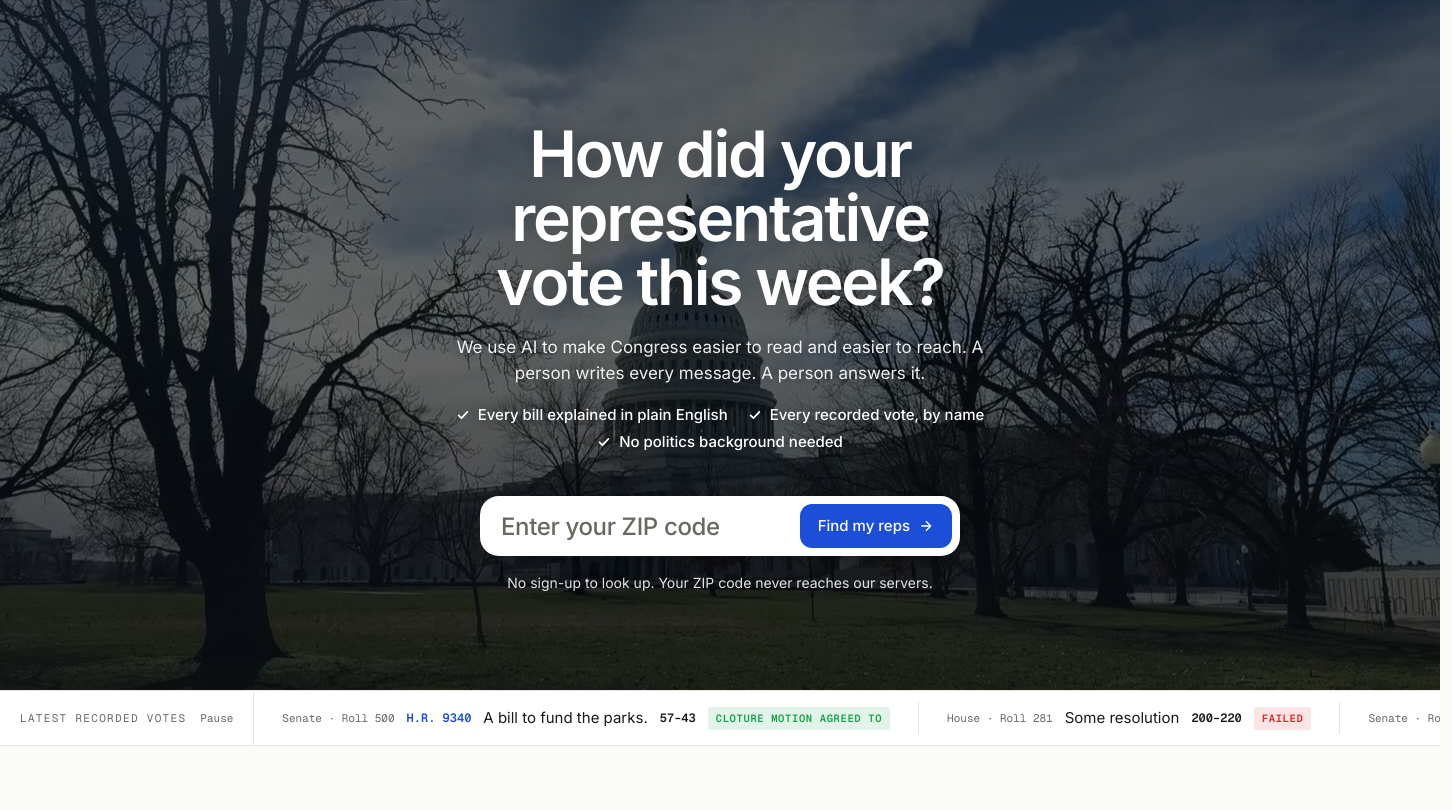
Test: Landing hero floor ticker › pauses and plays from the Pause control in the label
Expected: the element with class "ft-group" is shown, 254,702 -> 1440,734
What coordinates should you click on to do the following:
click the button with class "ft-pause"
I would click on:
 (217, 718)
Its box is 200,711 -> 233,725.
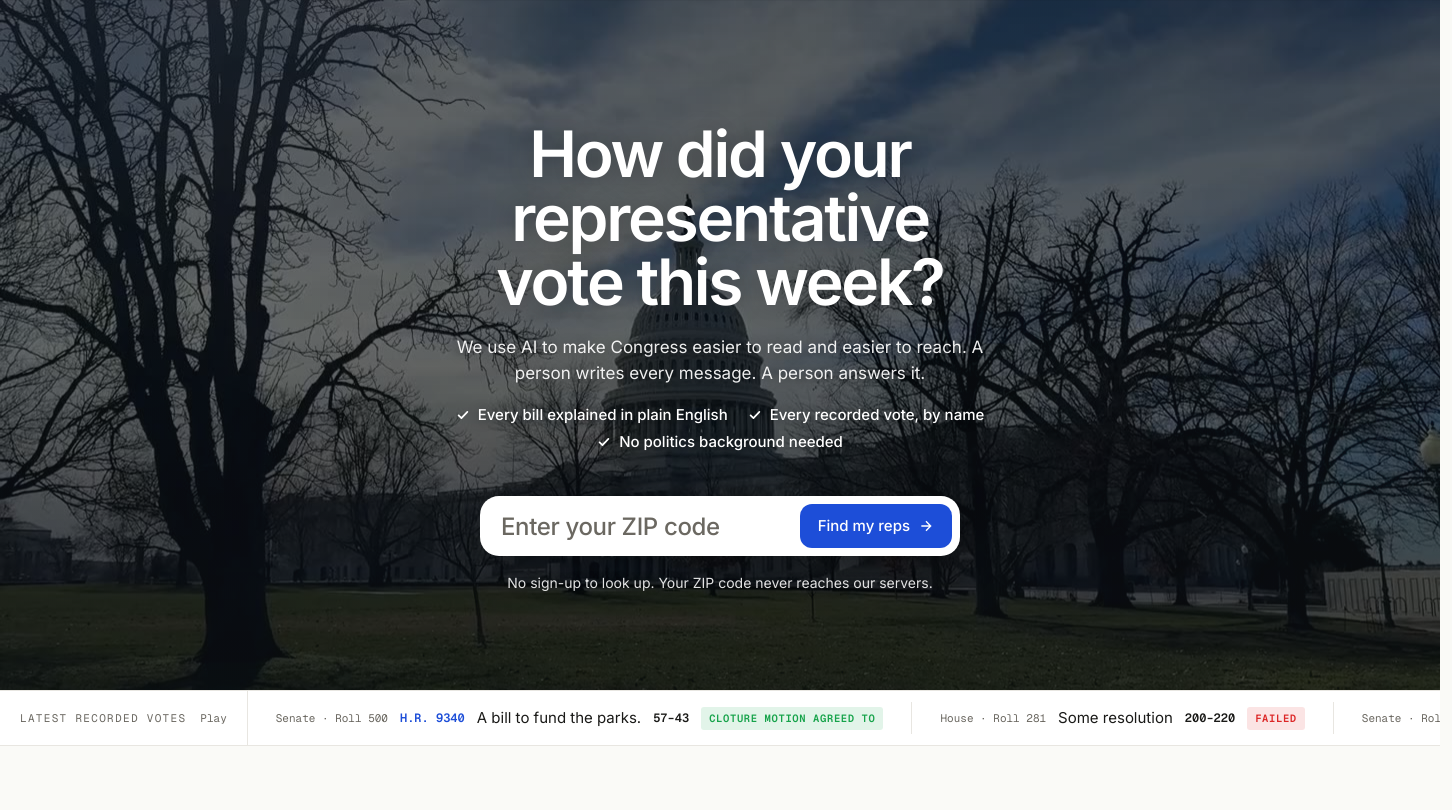
Now the button with class "ft-pause" reads "Play"
What coordinates should you click on to do the following:
click the button with class "ft-pause"
I would click on:
 (214, 718)
Its box is 200,711 -> 227,725.
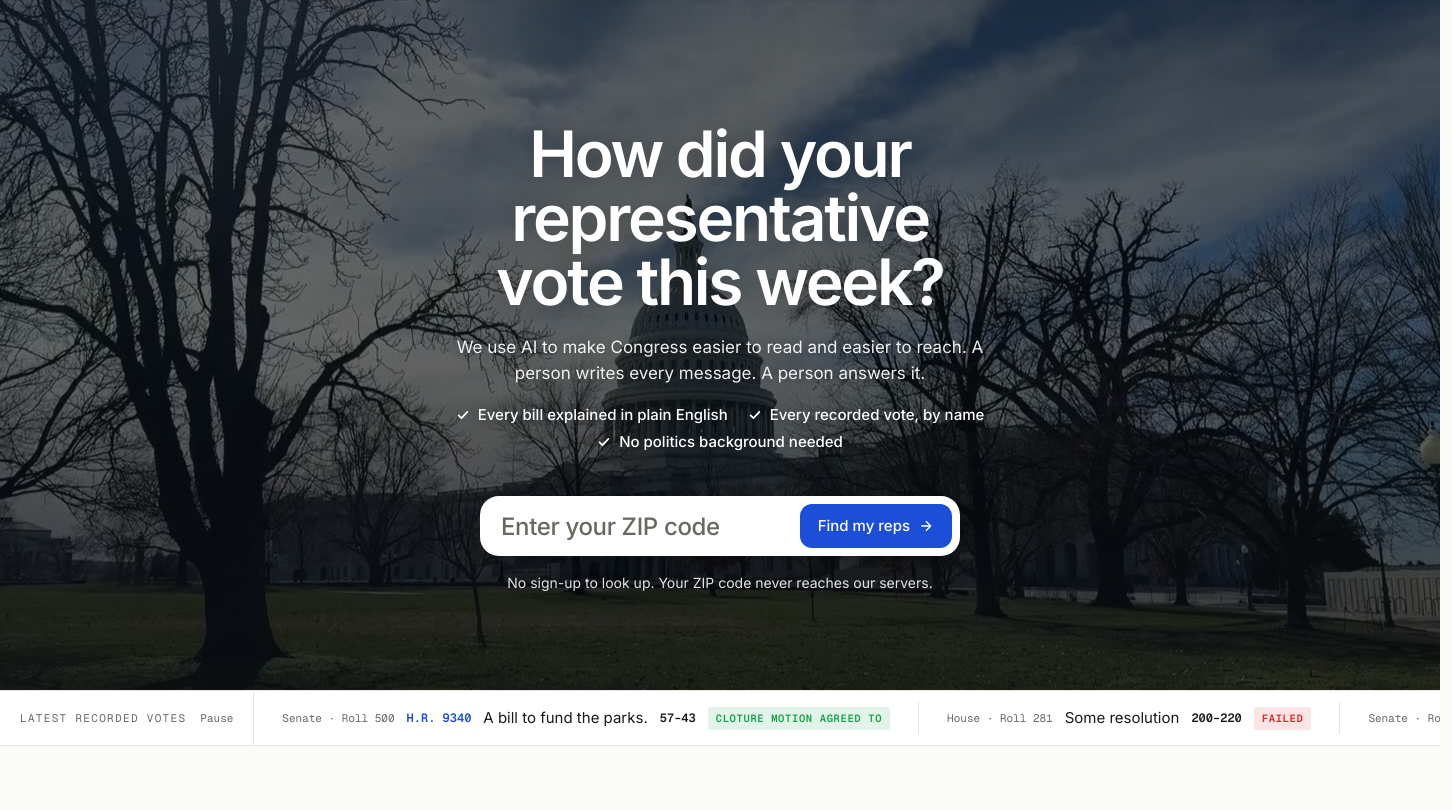
Now the button with class "ft-pause" reads "Pause", box 200,711 -> 233,725
